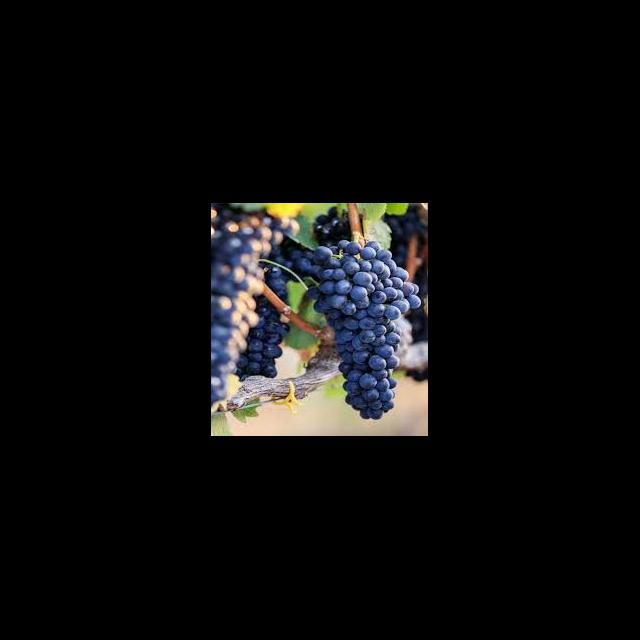grape: (312, 236, 419, 419)
